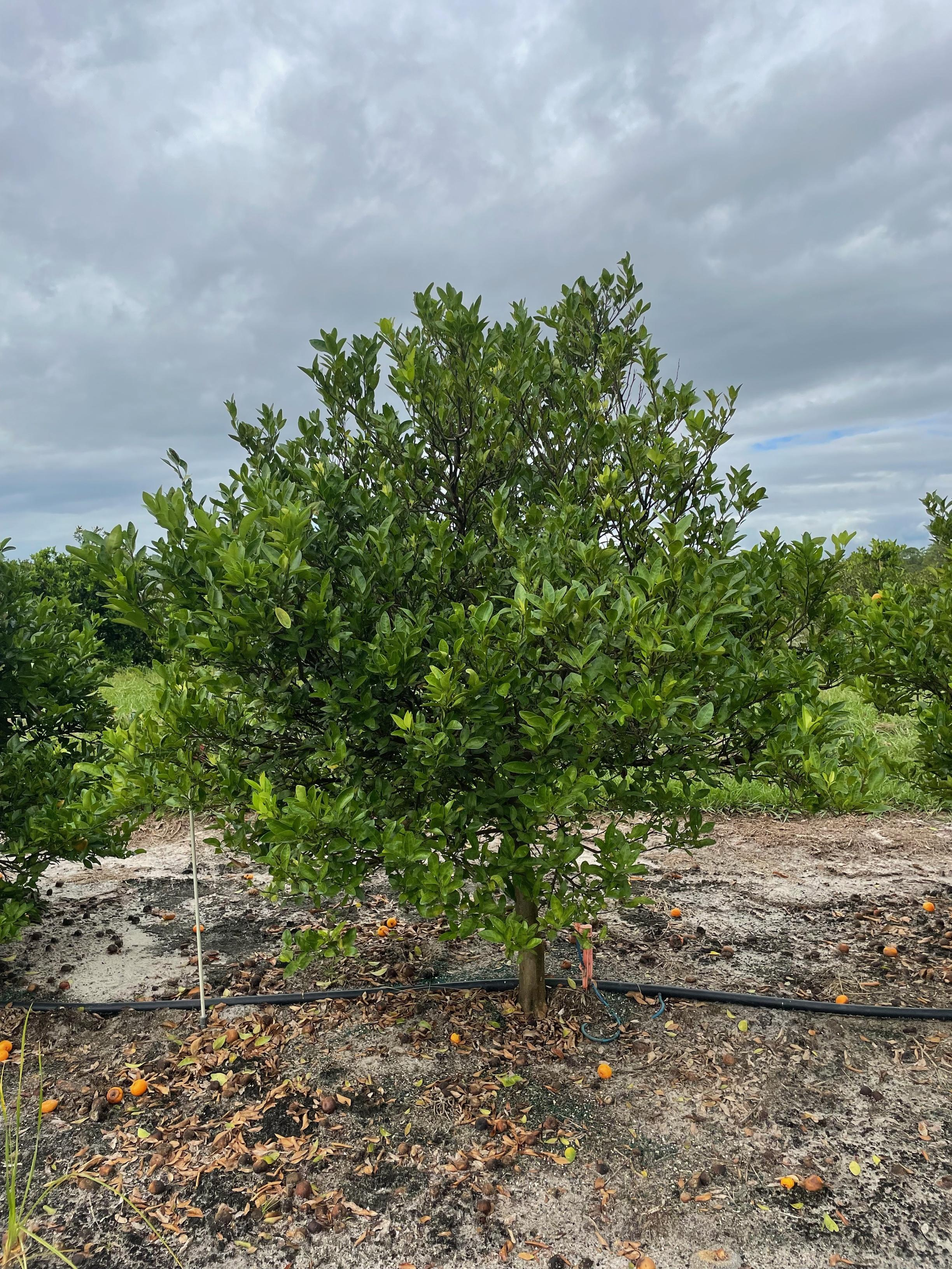fruit_on_ground: (70, 834, 91, 855), (870, 591, 884, 605)
fruit_on_tree: (146, 1175, 170, 1195), (128, 1077, 150, 1098), (104, 1084, 126, 1105), (802, 1173, 825, 1193), (292, 1179, 314, 1198), (318, 1095, 338, 1115), (38, 1096, 59, 1114), (595, 1061, 614, 1080), (222, 1027, 240, 1045), (634, 1255, 658, 1268), (779, 1174, 796, 1191), (835, 940, 851, 955), (0, 1037, 14, 1054), (882, 944, 899, 958), (720, 944, 736, 958), (160, 909, 176, 923), (558, 957, 573, 971), (448, 1030, 462, 1045), (384, 915, 399, 929), (834, 992, 850, 1005), (190, 921, 205, 934), (668, 905, 683, 918), (921, 899, 936, 912), (58, 979, 72, 992), (375, 925, 390, 937), (26, 981, 39, 993), (0, 1048, 11, 1062), (242, 870, 255, 881)
